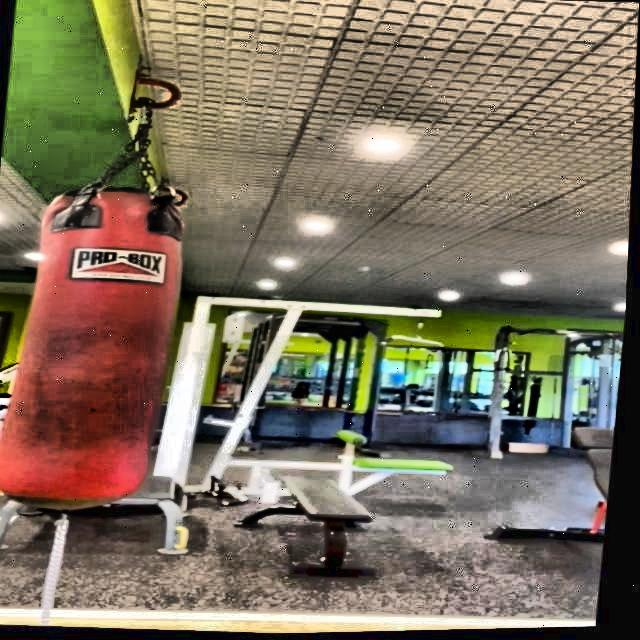boxing-bag: (5, 65, 204, 522)
